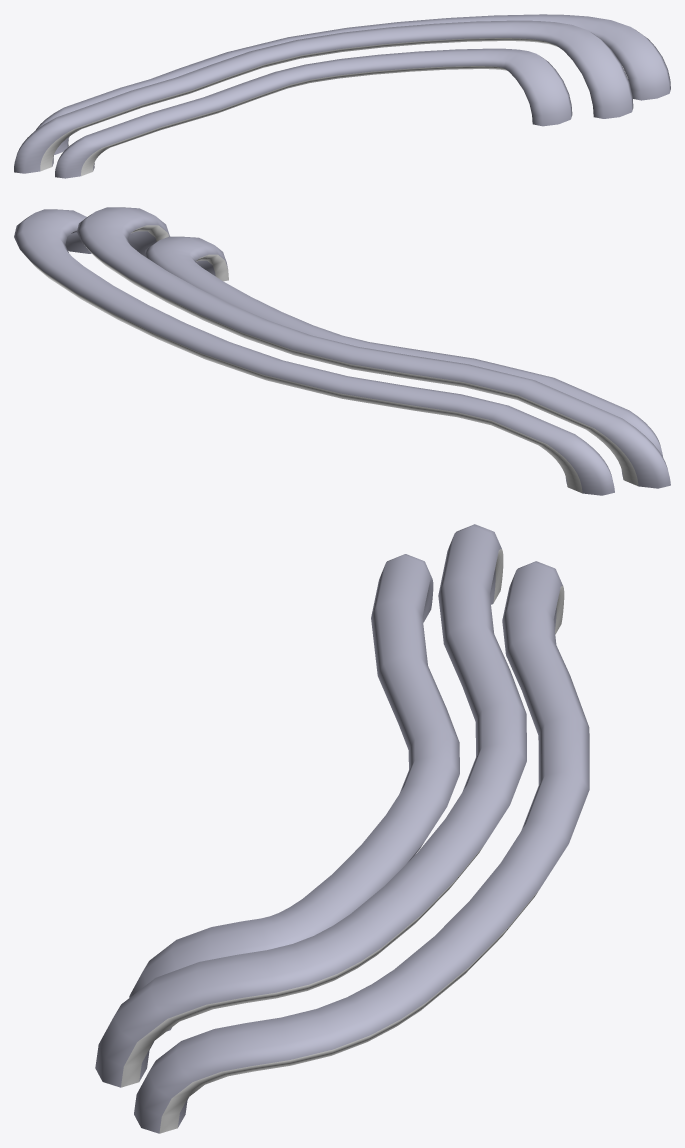
File: Pipe_6.fbx
The picture shows the model from 3 angles, top to bottom: view 1: azimuth 30°, elevation 25°; view 2: azimuth 150°, elevation 25°; view 3: azimuth 270°, elevation 25°; orthographic projection. The views are drawn at different scales.
Parts seen in each view (by area): view 1: Pipe_6; view 2: Pipe_6; view 3: Pipe_6.
Part boxes in pixels (left/top/right/bottom): Pipe_6: left=14, top=14, right=670, bottom=178; Pipe_6: left=14, top=207, right=670, bottom=495; Pipe_6: left=95, top=524, right=589, bottom=1133.
Bounding box in the file's own units: 23.03 × 2.19 × 8.53.
